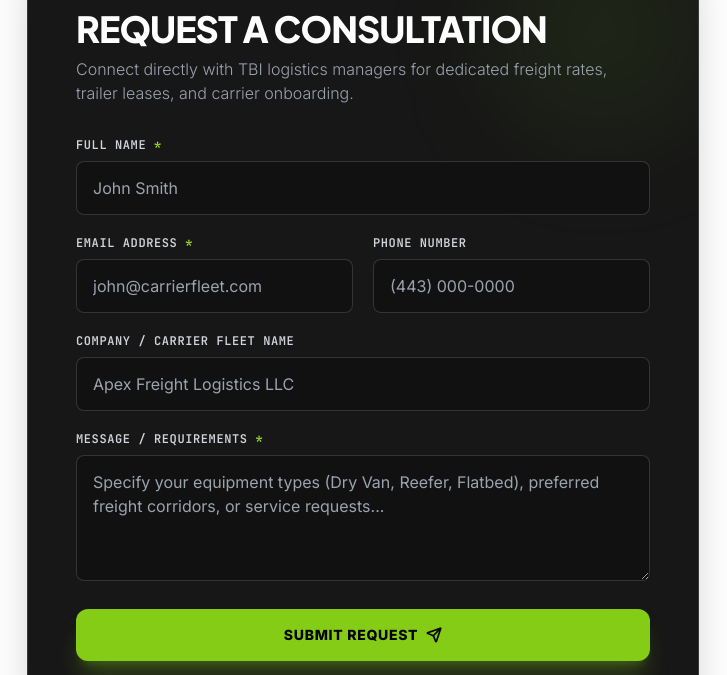
Test: Home Page Sections › ContactForm validates required fields
(page scrolled)
Click the button "Submit Request": [363, 635] box 76,609 -> 650,661
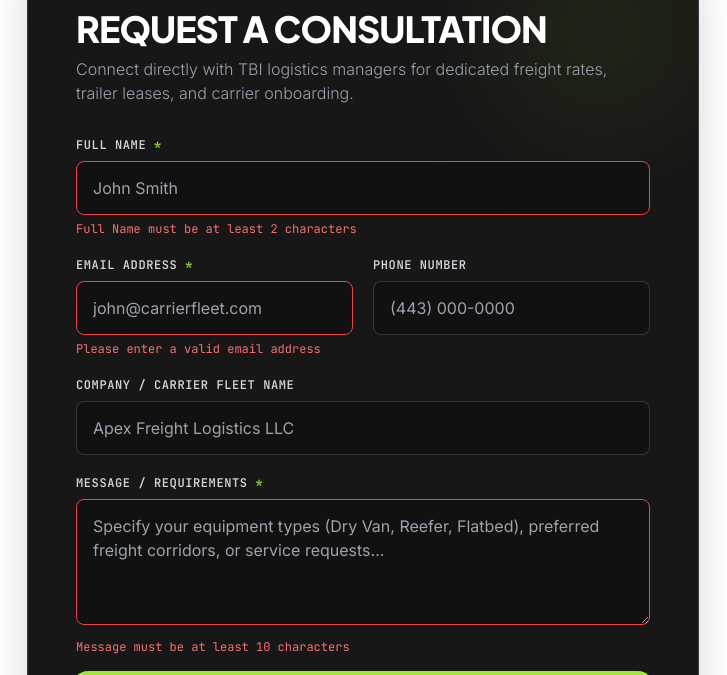
expect the text "Full Name must be at least 2 characters" is shown: met, box 76,221 -> 357,237
expect the text "Please enter a valid email address" is shown: met, box 76,341 -> 353,357
